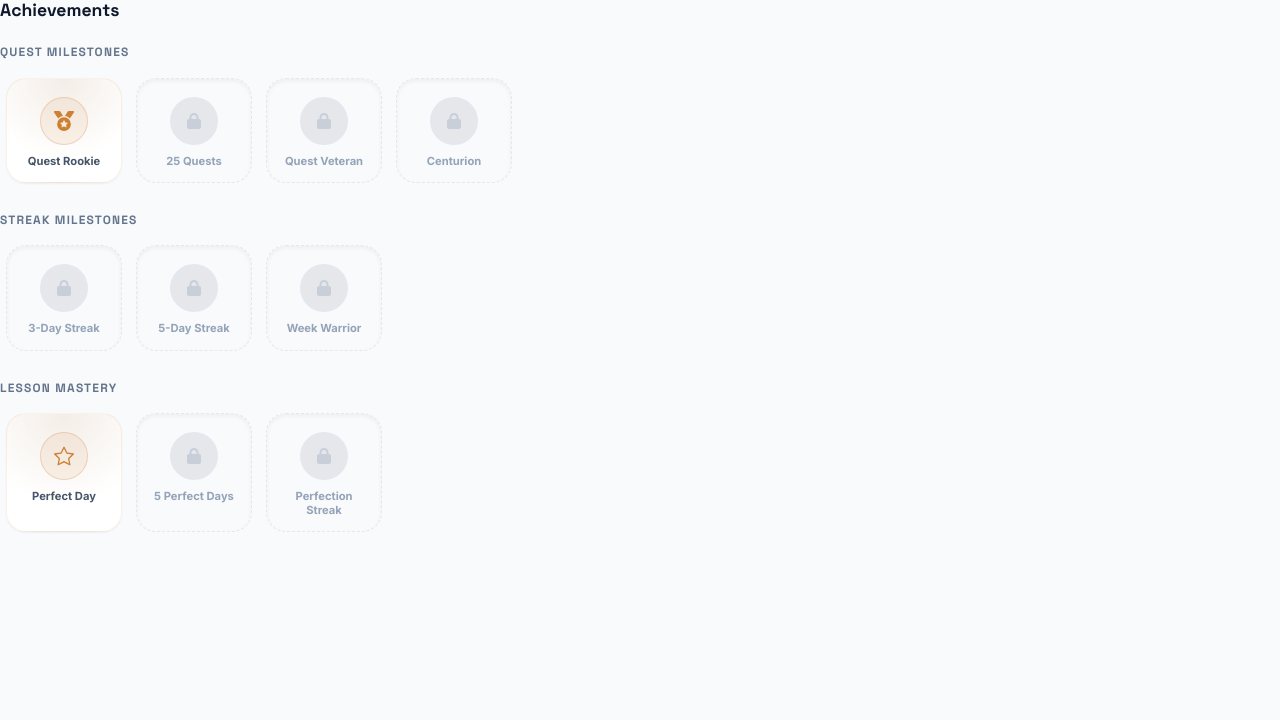
Test case: AchievementsSection › closes the modal on Escape and shows completed copy for earned achievements
Click the button with aria-label "View details for Quest Rookie" at x=64, y=130, box [6,78,122,183]
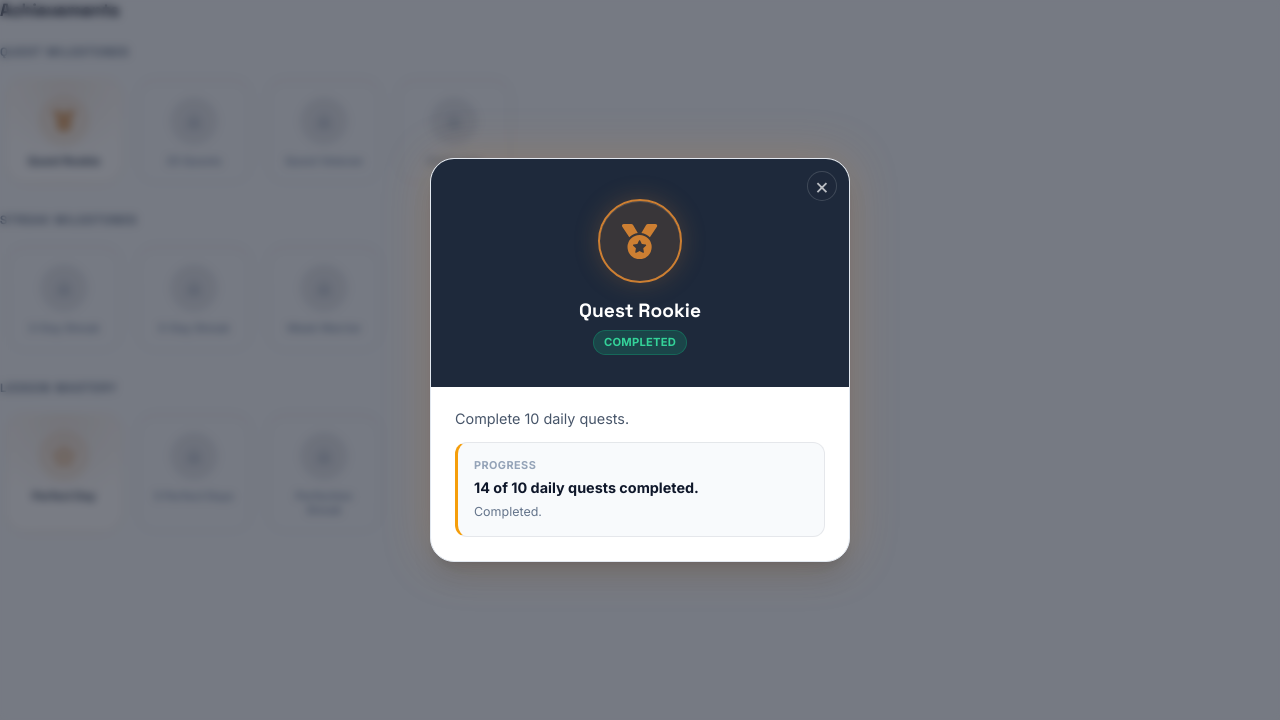
Now the text "Completed" is shown, box [593,330,687,355]
Now the text "14 of 10 daily quests completed." is shown, box [474,479,699,496]
Press Escape
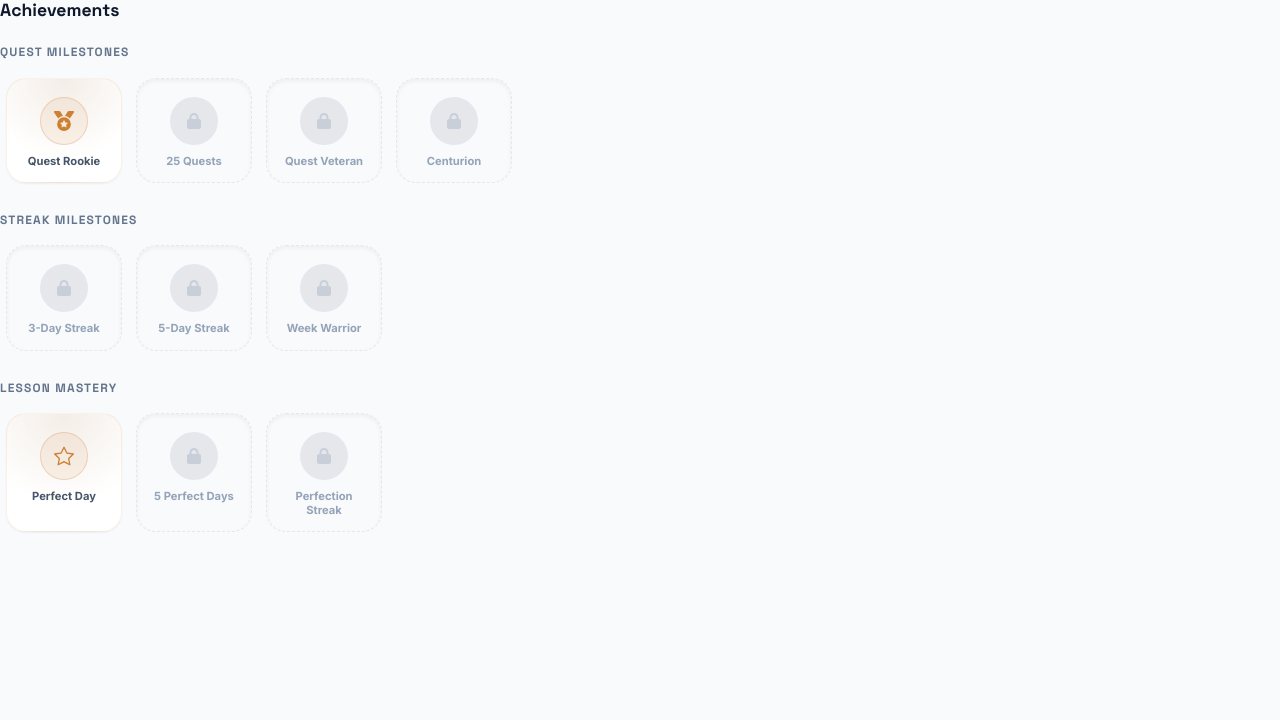
Now the dialog is gone
